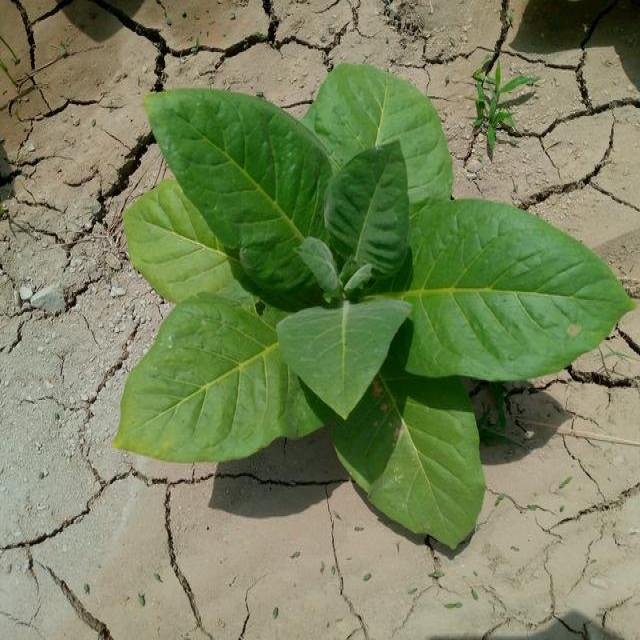crop: (105, 45, 634, 547)
